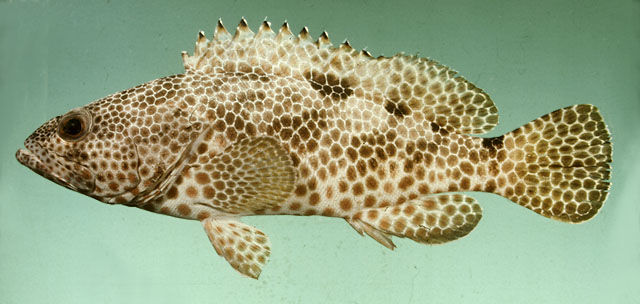fish: (15, 14, 613, 281)
